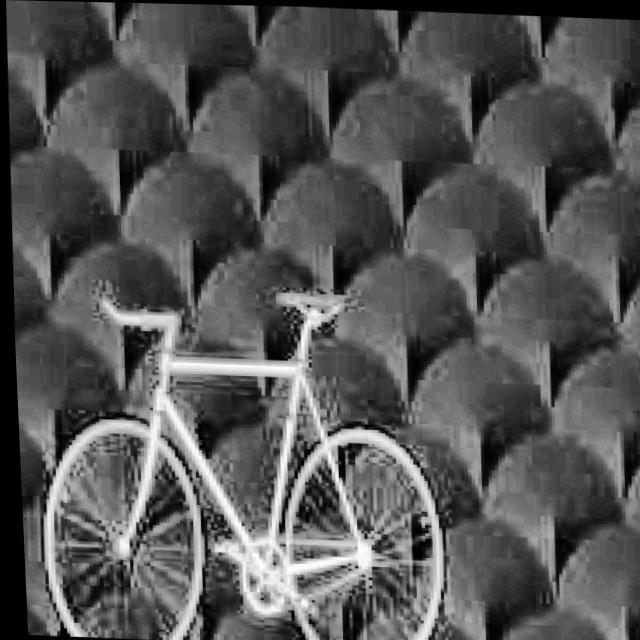motorcycle: (14, 270, 472, 640)
